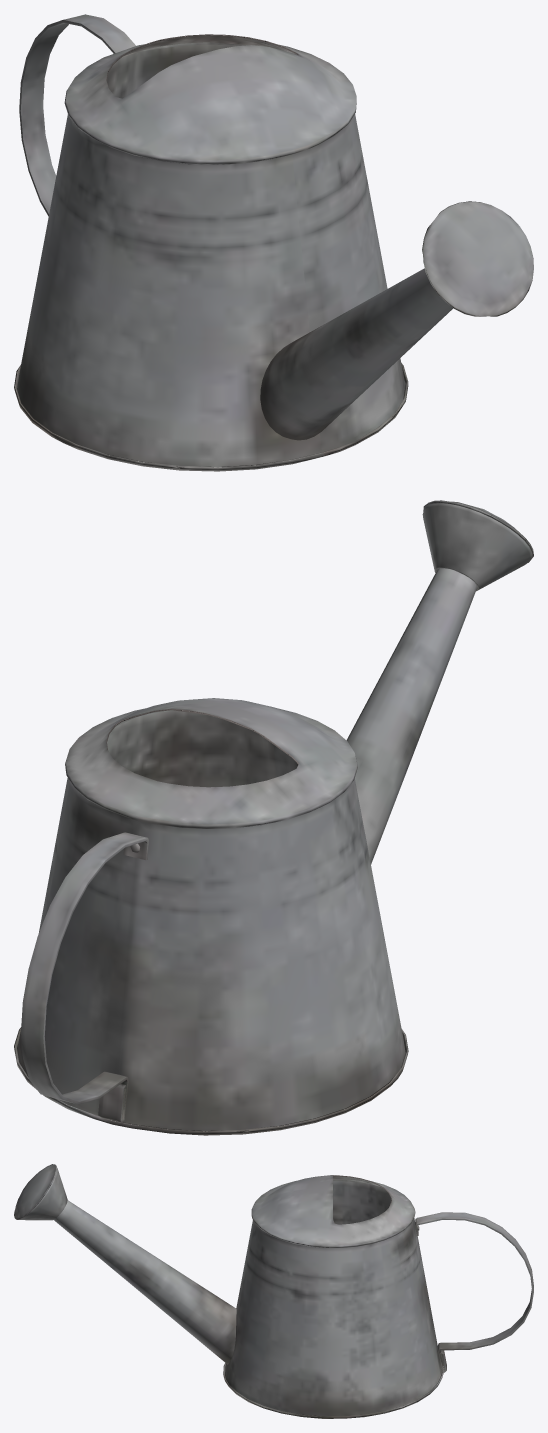
File: watering_can_metal_01.glb
The picture shows the model from 3 angles, top to bottom: view 1: azimuth 30°, elevation 25°; view 2: azimuth 150°, elevation 25°; view 3: azimuth 270°, elevation 25°; orthographic projection. The views are drawn at different scales.
Parts seen in each view (by area): view 1: watering_can_metal_01; view 2: watering_can_metal_01; view 3: watering_can_metal_01.
Part boxes in pixels (x1=…): watering_can_metal_01: x1=14, y1=14, x2=533, y2=471; watering_can_metal_01: x1=14, y1=500, x2=533, y2=1135; watering_can_metal_01: x1=14, y1=1164, x2=533, y2=1418.
Bounding box in the file's own units: 0.191 × 0.1965 × 0.4521.
1 material, 1 textured.
